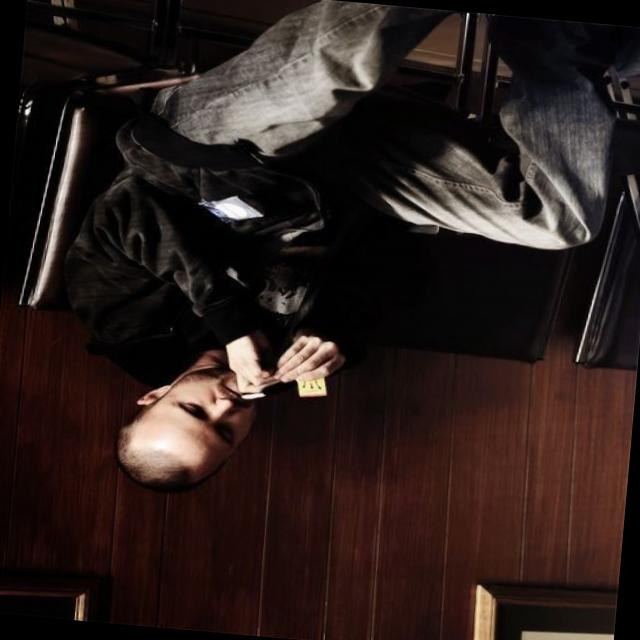cigarette: (239, 386, 274, 406)
